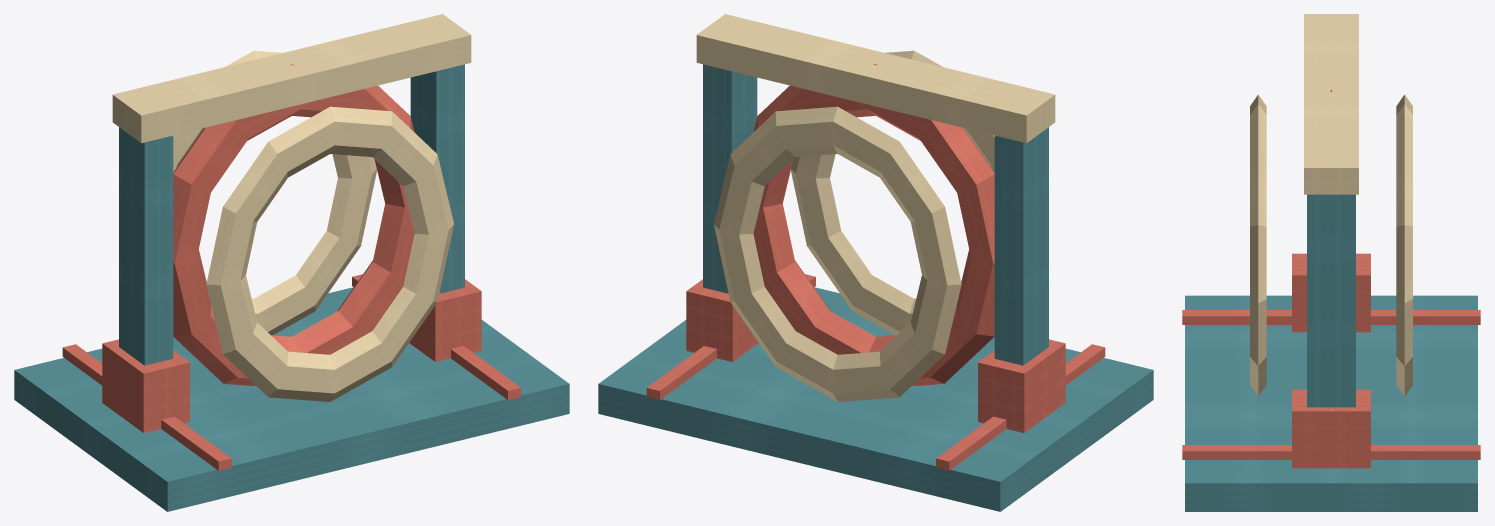
File: atlas100-s073-a01.lod2.glb
3 views of the same model, side by side, from view 1: azimuth 30°, elevation 25°; view 2: azimuth 150°, elevation 25°; view 3: azimuth 270°, elevation 25° (orthographic). The views are drawn at different scales.
Parts seen in each view (by area): view 1: atlas100-s073-a01:part-000, atlas100-s073-a01:part-010, atlas100-s073-a01:part-008, atlas100-s073-a01:part-007, atlas100-s073-a01:part-003, atlas100-s073-a01:part-009, atlas100-s073-a01:part-005, atlas100-s073-a01:part-004, atlas100-s073-a01:part-006, atlas100-s073-a01:part-001, atlas100-s073-a01:part-002; view 2: atlas100-s073-a01:part-000, atlas100-s073-a01:part-009, atlas100-s073-a01:part-008, atlas100-s073-a01:part-007, atlas100-s073-a01:part-003, atlas100-s073-a01:part-010, atlas100-s073-a01:part-005, atlas100-s073-a01:part-004, atlas100-s073-a01:part-006, atlas100-s073-a01:part-001, atlas100-s073-a01:part-002; view 3: atlas100-s073-a01:part-000, atlas100-s073-a01:part-005, atlas100-s073-a01:part-007, atlas100-s073-a01:part-006, atlas100-s073-a01:part-009, atlas100-s073-a01:part-010, atlas100-s073-a01:part-002, atlas100-s073-a01:part-001, atlas100-s073-a01:part-004.
Boxes of the visible parts, x1=… form: atlas100-s073-a01:part-000: x1=14, y1=287, x2=569, y2=511; atlas100-s073-a01:part-010: x1=206, y1=106, x2=453, y2=401; atlas100-s073-a01:part-008: x1=173, y1=64, x2=414, y2=385; atlas100-s073-a01:part-007: x1=112, y1=14, x2=471, y2=143; atlas100-s073-a01:part-003: x1=119, y1=127, x2=173, y2=365; atlas100-s073-a01:part-009: x1=173, y1=50, x2=376, y2=335; atlas100-s073-a01:part-005: x1=410, y1=64, x2=464, y2=293; atlas100-s073-a01:part-004: x1=102, y1=339, x2=189, y2=432; atlas100-s073-a01:part-006: x1=409, y1=279, x2=481, y2=361; atlas100-s073-a01:part-001: x1=62, y1=344, x2=231, y2=470; atlas100-s073-a01:part-002: x1=352, y1=274, x2=521, y2=400; atlas100-s073-a01:part-000: x1=598, y1=287, x2=1153, y2=511; atlas100-s073-a01:part-009: x1=714, y1=106, x2=961, y2=401; atlas100-s073-a01:part-008: x1=753, y1=64, x2=994, y2=385; atlas100-s073-a01:part-007: x1=696, y1=14, x2=1055, y2=143; atlas100-s073-a01:part-003: x1=994, y1=127, x2=1048, y2=365; atlas100-s073-a01:part-010: x1=791, y1=50, x2=994, y2=335; atlas100-s073-a01:part-005: x1=703, y1=64, x2=757, y2=293; atlas100-s073-a01:part-004: x1=978, y1=339, x2=1065, y2=432; atlas100-s073-a01:part-006: x1=686, y1=279, x2=758, y2=361; atlas100-s073-a01:part-001: x1=936, y1=344, x2=1105, y2=470; atlas100-s073-a01:part-002: x1=646, y1=274, x2=815, y2=400; atlas100-s073-a01:part-000: x1=1185, y1=295, x2=1477, y2=511; atlas100-s073-a01:part-005: x1=1307, y1=194, x2=1355, y2=407; atlas100-s073-a01:part-007: x1=1304, y1=14, x2=1358, y2=194; atlas100-s073-a01:part-006: x1=1292, y1=389, x2=1370, y2=468; atlas100-s073-a01:part-009: x1=1396, y1=94, x2=1412, y2=396; atlas100-s073-a01:part-010: x1=1250, y1=94, x2=1266, y2=396; atlas100-s073-a01:part-002: x1=1182, y1=445, x2=1480, y2=459; atlas100-s073-a01:part-001: x1=1182, y1=310, x2=1480, y2=324; atlas100-s073-a01:part-004: x1=1292, y1=253, x2=1370, y2=332.
Size of the model in its own units: 3.64 by 2.97 by 2.45.
3 materials, 3 textured.
